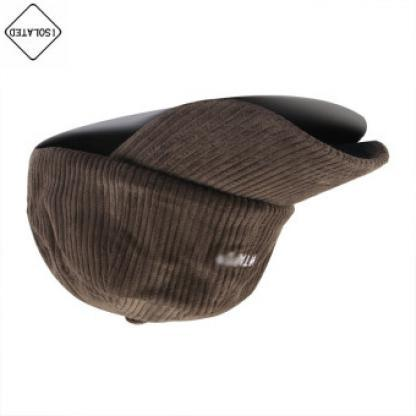cap: (17, 94, 400, 332)
